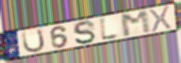6: (49, 24, 69, 49)
L: (98, 15, 122, 43)
M: (119, 9, 153, 38)
S: (72, 20, 97, 46)
U: (21, 27, 47, 54)
X: (148, 4, 173, 33)
